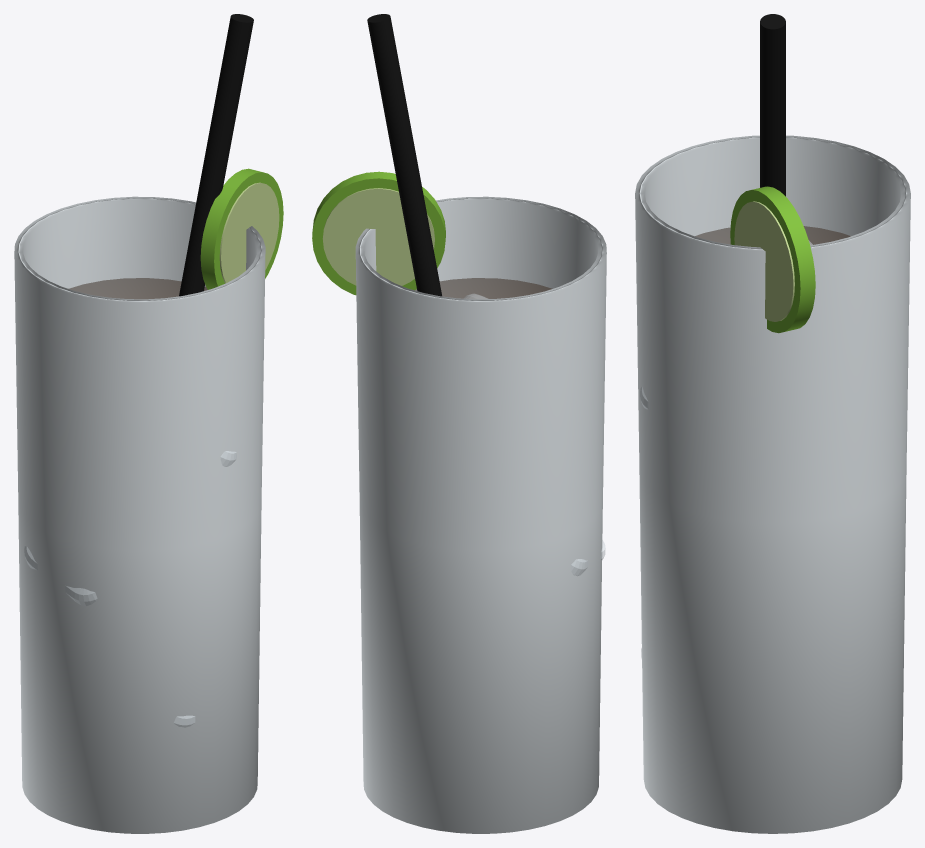
File: cocktail-cuba-libre.glb
The picture shows the model from 3 angles, left to right: view 1: azimuth 30°, elevation 25°; view 2: azimuth 150°, elevation 25°; view 3: azimuth 270°, elevation 25°; orthographic projection. The views are drawn at different scales.
Bounding box in the file's own units: 0.0779 × 0.2086 × 0.064.
